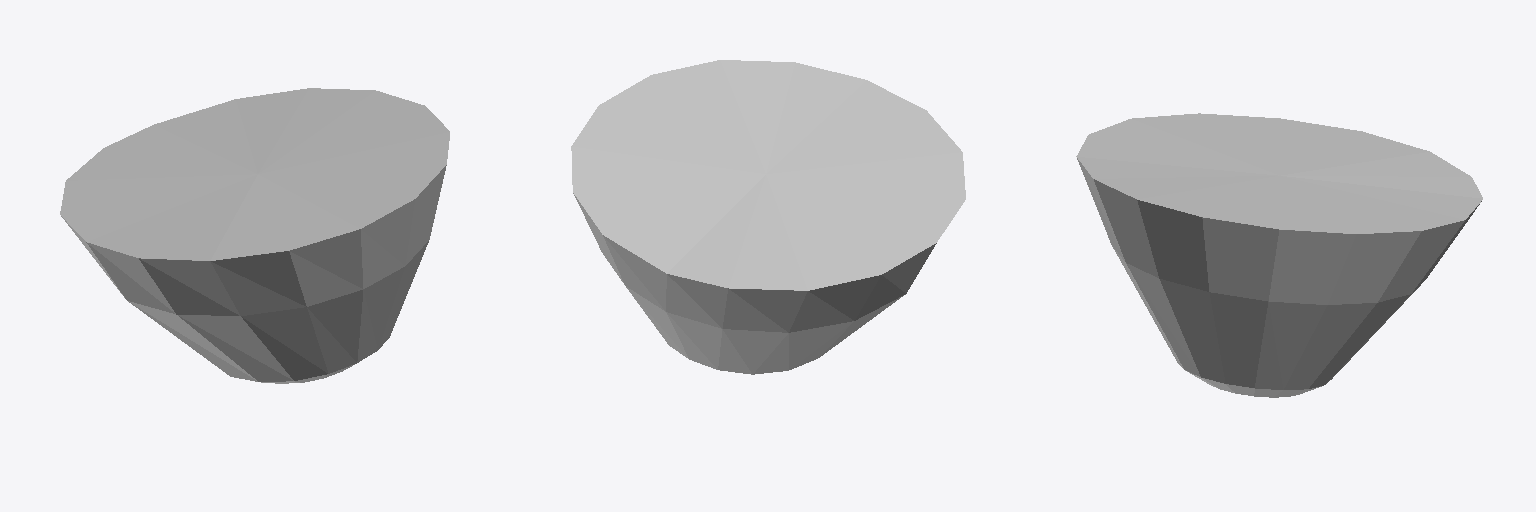
File: pone_nip.obj
The picture shows the model from 3 angles: view 1: azimuth 30°, elevation 25°; view 2: azimuth 150°, elevation 25°; view 3: azimuth 270°, elevation 25°; orthographic projection.
Parts seen in each view (by area): view 1: Sphere.007; view 2: Sphere.007; view 3: Sphere.007.
Boxes of the visible parts, x1=… form: Sphere.007: x1=60, y1=88, x2=449, y2=383; Sphere.007: x1=571, y1=60, x2=965, y2=374; Sphere.007: x1=1076, y1=113, x2=1482, y2=397.
Size of the model in its own units: 1.74 by 1.13 by 1.81.